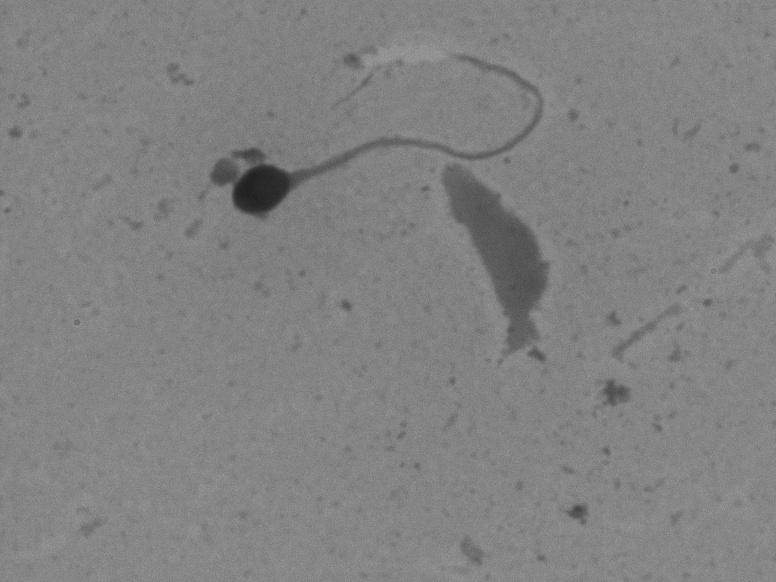Abnormal: (223, 43, 561, 226)
